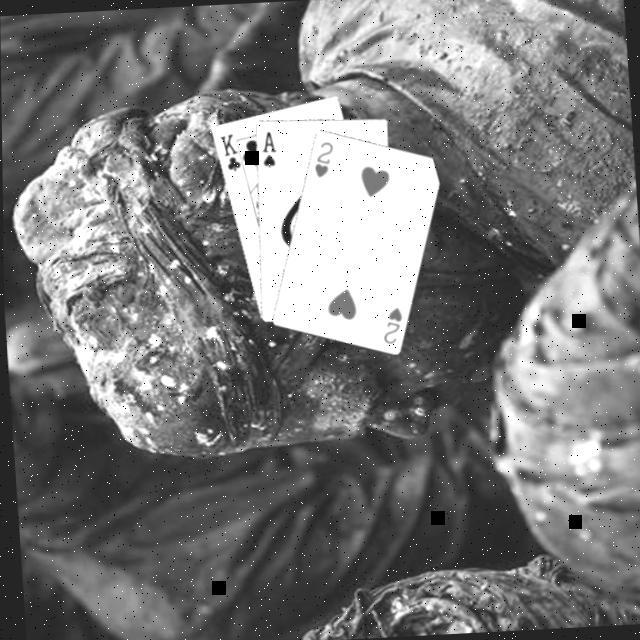2H: (306, 140, 336, 183), (376, 306, 404, 348)
AS: (256, 129, 278, 172)
KC: (215, 132, 246, 178)
